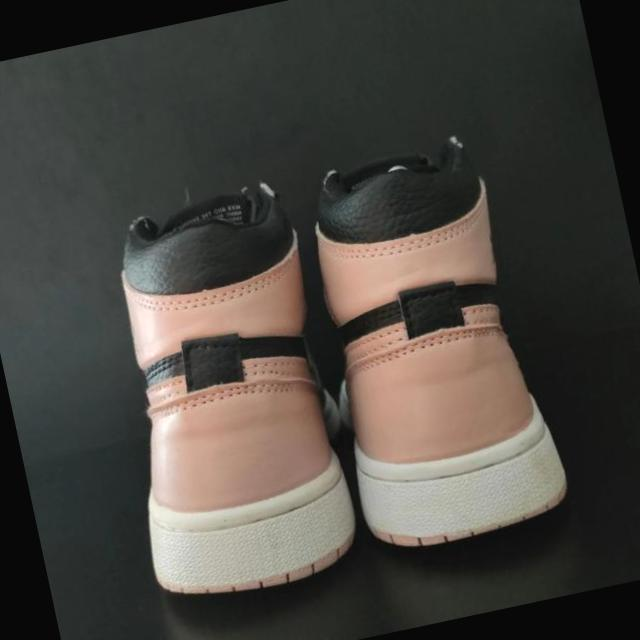nike_fake_jordan: (79, 178, 375, 614), (276, 132, 572, 564)
